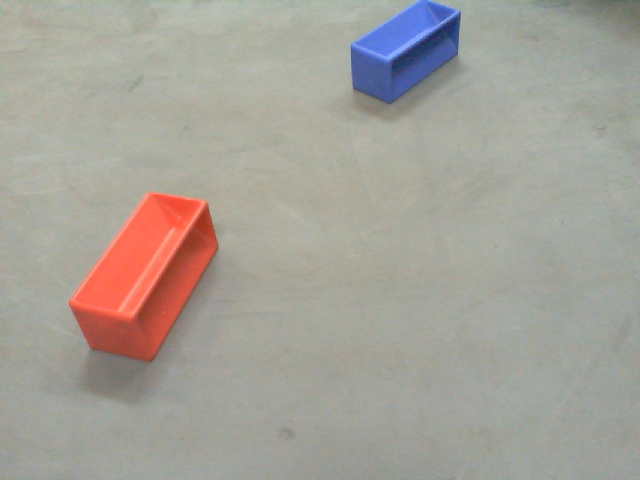BlueSample: (347, 1, 466, 105)
RedSample: (63, 187, 221, 365)
